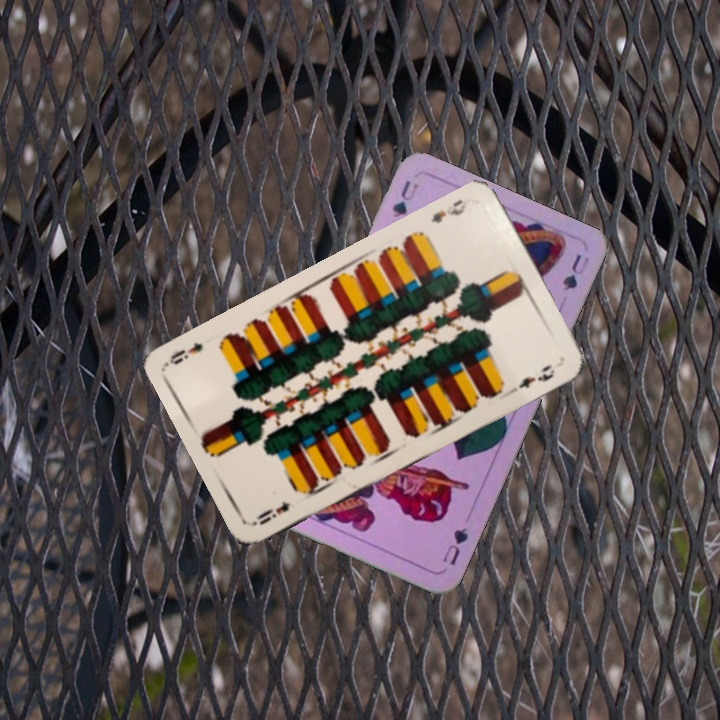E9: (427, 193, 476, 226), (250, 497, 293, 528)
GU: (438, 523, 471, 568), (388, 176, 421, 221)
